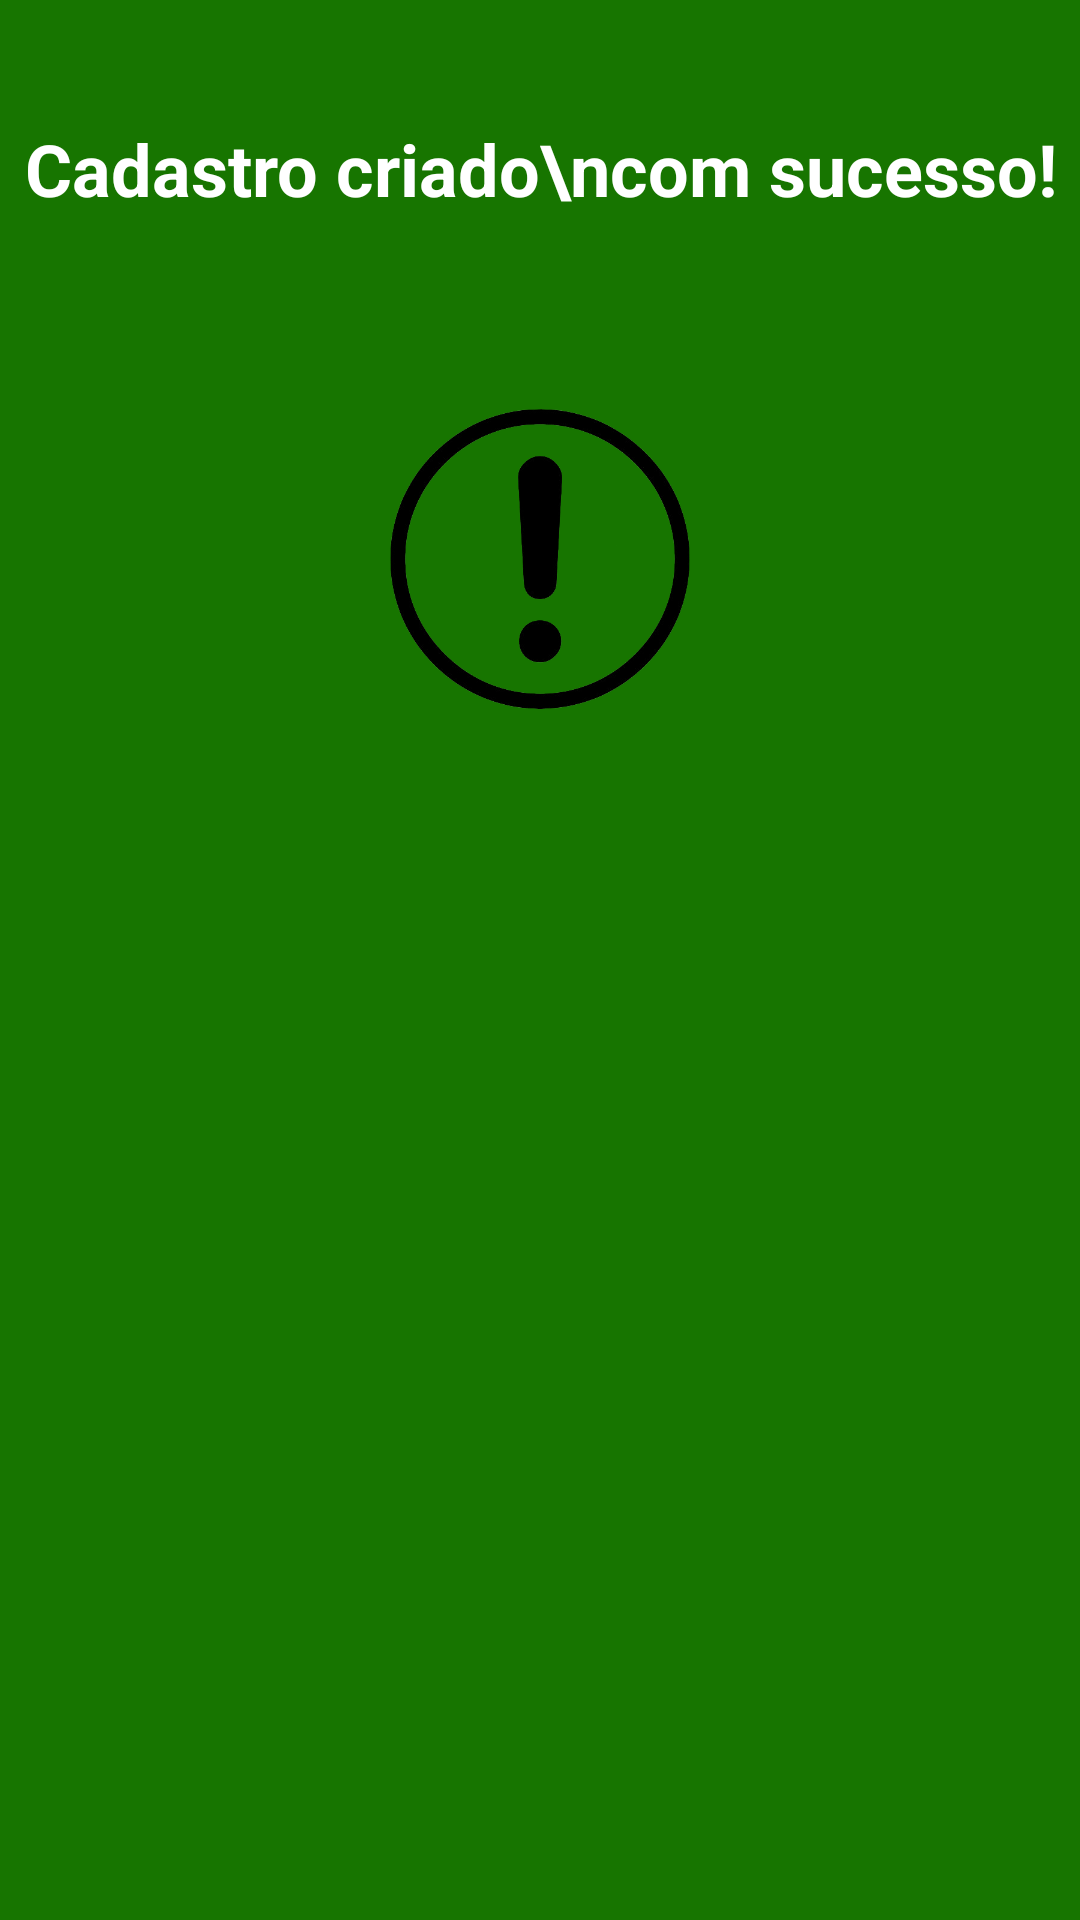

Icon bounding boxes for this 1080px x 1920px phone screenshot, format bbox=[x1, y1, x2, y2]:
alert: bbox=[390, 409, 690, 709]
